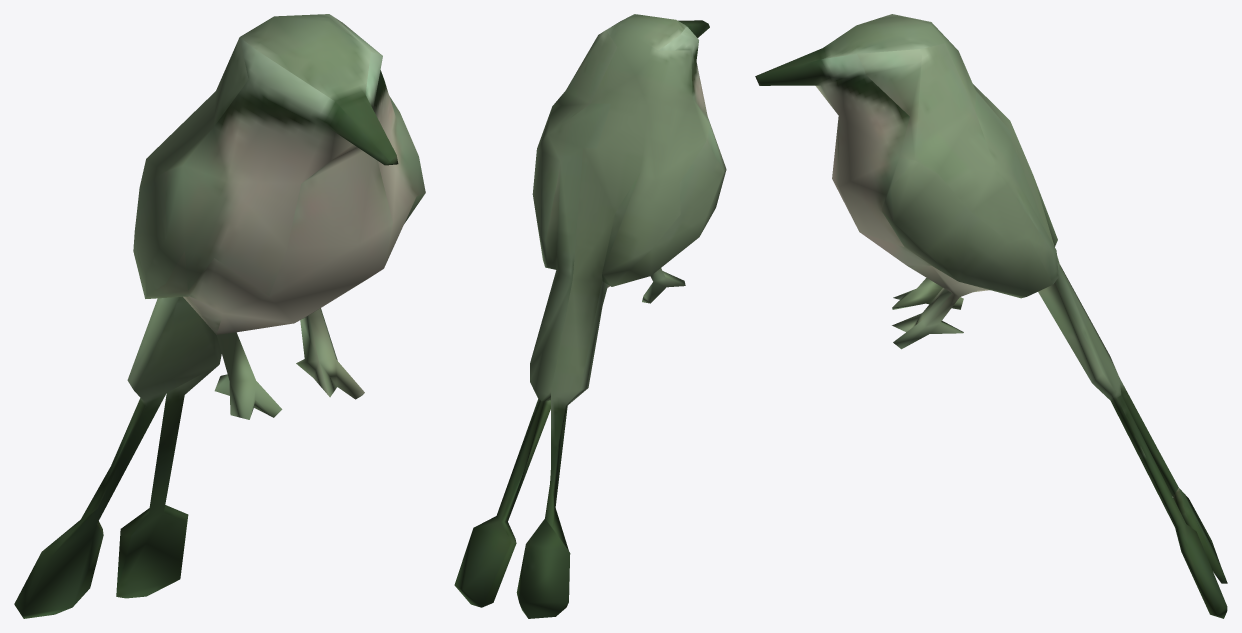
Rendered from motmot-1K6AICDt.glb.
The picture shows the model from 3 angles, left to right: view 1: azimuth 30°, elevation 25°; view 2: azimuth 150°, elevation 25°; view 3: azimuth 270°, elevation 25°; orthographic projection. The views are drawn at different scales.
Parts seen in each view (by area): view 1: geom0; view 2: geom0; view 3: geom0.
Part boxes in pixels (x1,y1,x2,y2): geom0: (14,14,425,618); geom0: (454,14,726,618); geom0: (755,14,1227,618).
Size of the model in its own units: 0.3609 by 0.9985 by 0.747.
1 material, 1 textured.
